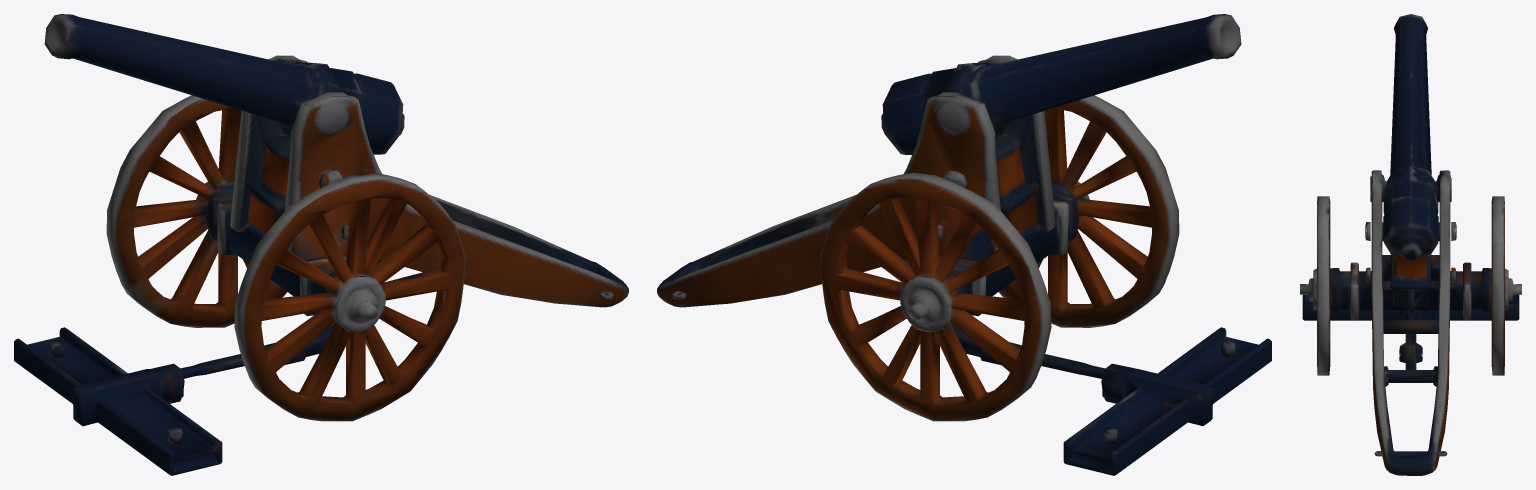
3 views of the same model, side by side, from view 1: azimuth 30°, elevation 25°; view 2: azimuth 150°, elevation 25°; view 3: azimuth 270°, elevation 25° (orthographic). The views are drawn at different scales.
Parts seen in each view (by area): view 1: material; view 2: material; view 3: material.
Part boxes in pixels (x1=…): material: x1=14, y1=14, x2=628, y2=475; material: x1=657, y1=14, x2=1271, y2=475; material: x1=1300, y1=14, x2=1521, y2=475.
Size of the model in its own units: 1.9 by 1.32 by 0.9432.
Materials: 1 (1 with a texture image).
